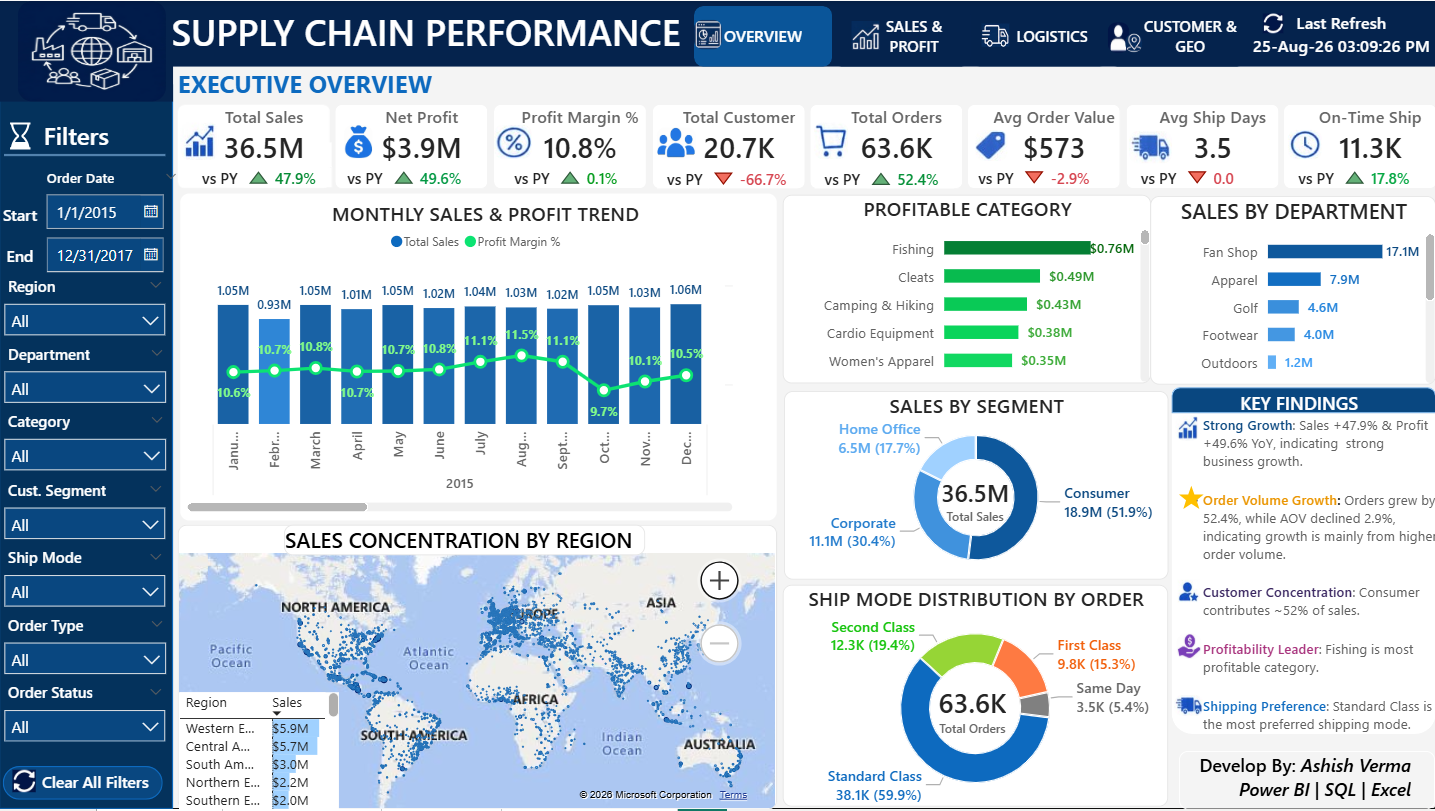

The dashboard page shown, as its layout file describes it:
{"tool":"powerbi","page":{"name":"OVERVIEW","canvas":[1280,720],"ordinal":0},"visuals":[{"type":"image","box":[16.8,0,131.8,89.9],"z":0,"group":"g30"},{"type":"pageNavigator","box":[618.8,4.7,493.5,54.1],"z":0,"group":"g32"},{"type":"image","box":[758.9,18.4,24.8,25.9],"z":0,"group":"g9"},{"type":"group","id":"g1","title":"Group 10","box":[987.4,19,30.6,27.2],"z":0,"group":"g14"},{"type":"group","id":"g2","title":"Group 9","box":[987.4,19,18.8,27.1],"z":0,"group":"g1"},{"type":"image","box":[987.4,19,18.8,27.1],"z":0,"group":"g2"},{"type":"image","box":[875,20.6,25,20.6],"z":0,"group":"g16"},{"type":"shape","box":[581.8,91.8,135.6,74.4],"z":0,"group":"g26"},{"type":"shape","box":[721.9,91.9,135.6,74.4],"z":0,"group":"g17"},{"type":"group","id":"g3","title":"Group 18","box":[158.9,92.2,139.2,74.8],"z":0,"group":"g33"},{"type":"shape","box":[158.9,92.2,135.6,74.4],"z":0,"group":"g3"},{"type":"shape","box":[299.7,92.2,135.6,74.4],"z":0,"group":"g10"},{"type":"shape","box":[440.4,92.2,135.6,74.4],"z":0,"group":"g15"},{"type":"shape","box":[862.7,92.2,135.6,74.4],"z":0,"group":"g28"},{"type":"shape","box":[1003.5,92.2,135.6,74.4],"z":0,"group":"g29"},{"type":"shape","box":[1144.2,92.2,135.6,74.4],"z":0,"group":"g31"},{"type":"textbox","box":[3.8,104.5,128.8,32.5],"z":0,"group":"g11"},{"type":"image","box":[725.2,107.5,30,33],"z":0,"group":"g18"},{"type":"image","box":[161.5,107.9,34.4,33.8],"z":0,"group":"g19"},{"type":"image","box":[307.3,110.2,25.6,30.6],"z":0,"group":"g20"},{"type":"image","box":[440,110.5,33.8,30.6],"z":0,"group":"g21"},{"type":"image","box":[584.9,111.6,35,28],"z":0,"group":"g22"},{"type":"image","box":[869,114.2,28.9,27.8],"z":0,"group":"g23"},{"type":"image","box":[1147.2,114.8,30.6,26.2],"z":0,"group":"g24"},{"type":"image","box":[1006,115.4,38.3,28.9],"z":0,"group":"g25"},{"type":"group","id":"g4","title":"Group 6","box":[0,149.5,166.3,563.8],"z":0,"group":"g27"},{"type":"group","id":"g5","title":"Group 4","box":[0,149.5,166.3,511.2],"z":0,"group":"g4"},{"type":"group","id":"g6","title":"Group 1","box":[34.7,149.5,131.2,97.5],"z":0,"group":"g12"},{"type":"slicer","fields":{"Values":["Dim_Date.Order_Date"]},"box":[34.7,149.5,131.2,97.5],"z":0,"group":"g6"},{"type":"group","id":"g7","title":"Group 2","box":[0,245.7,153.8,415],"z":0,"group":"g5"},{"type":"shape","box":[1044.4,344.4,235.6,308.9],"z":0},{"type":"donutChart","title":"SALES BY SEGMENT","fields":{"Y":["_Measures.Total Sales"],"Category":["Dim_Customer.Customer_Segment"]},"box":[698.9,346.8,342,167.8],"z":0,"group":"g34"},{"type":"image","box":[1047,368,22,23],"z":0,"group":"g36"},{"type":"image","box":[1049,430,26,25],"z":0,"group":"g37"},{"type":"slicer","fields":{"Values":["Dim_Ship.Ship_Mode"]},"box":[0,487.1,152.6,52.9],"z":0,"group":"g7"},{"type":"group","id":"g8","title":"Group 19","box":[697.8,519.9,343,197.8],"z":0,"group":"g35"},{"type":"donutChart","title":"SHIP MODE DISTRIBUTION BY ORDER","fields":{"Category":["Dim_Ship.Ship_Mode"],"Y":["_Measures.Total Orders"]},"box":[697.8,519.9,343,197.8],"z":0,"group":"g8"},{"type":"shape","box":[3.8,681.7,142.5,30],"z":0,"group":"g13"},{"type":"shape","box":[146.2,0,1133.8,58.7],"z":1000},{"type":"group","id":"g9","title":"Group 14","box":[758.9,18.4,24.1,24.8],"z":1000,"group":"g32"},{"type":"image","box":[1002.7,29,15.3,17.2],"z":1000,"group":"g1"},{"type":"group","id":"g10","title":"Group 18","box":[299.7,92.2,135.6,74.4],"z":1000,"group":"g33"},{"type":"group","id":"g11","title":"Group 7","box":[3,104.5,144.5,45],"z":1000,"group":"g27"},{"type":"shape","box":[3.8,124.5,143.8,25],"z":1000,"group":"g11"},{"type":"tableEx","fields":{"Values":["Table.Column1","_Measures.Sales YoY %"]},"box":[171,126,127.1,41],"z":1000,"group":"g3"},{"type":"tableEx","fields":{"Values":["Table.Column1","_Measures.Profit YoY %"]},"box":[302.3,126,131.8,40],"z":1000,"group":"g10"},{"type":"tableEx","fields":{"Values":["Table.Column1","_Measures.Profit Margin Change YoY %"]},"box":[443.5,126,130.6,41],"z":1000,"group":"g15"},{"type":"tableEx","fields":{"Values":["Table.Column1","_Measures.Customers YoY %"]},"box":[584.9,126,131.2,41],"z":1000,"group":"g26"},{"type":"tableEx","fields":{"Values":["Table.Column1","_Measures.Orders YoY %"]},"box":[724.9,126,131.2,40],"z":1000,"group":"g17"},{"type":"tableEx","fields":{"Values":["Table.Column1","_Measures.Avg Order value YoY %"]},"box":[864.1,126,132.9,40],"z":1000,"group":"g28"},{"type":"tableEx","fields":{"Values":["Table.Column1","_Measures.YoY Avg Ship Days"]},"box":[1007.3,126,130,41],"z":1000,"group":"g29"},{"type":"tableEx","fields":{"Values":["Table.Column1","_Measures.On Time Ship %"]},"box":[1147,126,131.8,41],"z":1000,"group":"g31"},{"type":"group","id":"g12","title":"Group 3","box":[1.3,149.5,165,106.2],"z":1000,"group":"g5"},{"type":"textbox","box":[1.3,180.3,35.1,75],"z":1000,"group":"g12"},{"type":"cardVisual","fields":{"Data":["_Measures.Total Sales"]},"box":[833.7,421.4,71.5,44],"z":1000,"group":"g34"},{"type":"slicer","fields":{"Values":["Fact_Order.Order_Type"]},"box":[0,547.5,153.8,52.9],"z":1000,"group":"g7"},{"type":"cardVisual","fields":{"Data":["_Measures.Total Orders"]},"box":[810.7,604.3,113.7,53],"z":1000,"group":"g8"},{"type":"group","id":"g13","title":"Group 5","box":[3.8,679.5,145.3,33.8],"z":1000,"group":"g4"},{"type":"textbox","box":[30,686.7,111.2,26.2],"z":1000,"group":"g13"},{"type":"shape","box":[1044.4,344.4,235.6,23.3],"z":1500,"group":"g38"},{"type":"group","id":"g14","title":"Group 11","box":[987.4,19,30.6,27.2],"z":2000,"group":"g32"},{"type":"shape","box":[0,75,155,645],"z":2000},{"type":"cardVisual","fields":{"Data":["_Measures.Total Customer"]},"box":[600.7,91.8,116.7,53],"z":2000,"group":"g26"},{"type":"cardVisual","fields":{"Data":["_Measures.Total Orders"]},"box":[740.8,91.9,116.7,53],"z":2000,"group":"g17"},{"type":"cardVisual","fields":{"Data":["_Measures.Total Sales"]},"box":[177.8,92.2,116.7,53],"z":2000,"group":"g3"},{"type":"cardVisual","fields":{"Data":["_Measures.Total Profit"]},"box":[318.6,92.2,116.7,53],"z":2000,"group":"g10"},{"type":"group","id":"g15","title":"Group 18","box":[440,92.2,135.9,74.8],"z":2000,"group":"g33"},{"type":"cardVisual","fields":{"Data":["_Measures.Profit Margin %"]},"box":[459.3,92.2,116.7,53],"z":2000,"group":"g15"},{"type":"cardVisual","fields":{"Data":["_Measures.Avg Order Value"]},"box":[881.6,92.2,116.7,53],"z":2000,"group":"g28"},{"type":"cardVisual","fields":{"Data":["_Measures.Avg Actual Ship Days"]},"box":[1022.4,92.2,116.7,53],"z":2000,"group":"g29"},{"type":"cardVisual","fields":{"Data":["_Measures.On-Time Ship Order"]},"box":[1163.1,92.2,116.7,53],"z":2000,"group":"g31"},{"type":"image","box":[3,105.5,31.2,29],"z":2000,"group":"g11"},{"type":"slicer","fields":{"Values":["Dim_Customer.Customer_Segment"]},"box":[0,426.8,152.6,52.9],"z":2000,"group":"g7"},{"type":"image","box":[11,685.4,22.5,20],"z":2000,"group":"g13"},{"type":"shape","box":[0,0,155,89.9],"z":3000},{"type":"group","id":"g16","title":"Group 12","box":[875,20.6,25,20.6],"z":3000,"group":"g32"},{"type":"group","id":"g17","title":"Group 18","box":[721.9,91.9,135.6,74.4],"z":3000,"group":"g33"},{"type":"group","id":"g18","title":"Group 14","box":[725.2,107.5,30,33.3],"z":3000,"group":"g17"},{"type":"group","id":"g19","title":"Group 14","box":[161.5,107.9,34.4,33.8],"z":3000,"group":"g3"},{"type":"group","id":"g20","title":"Group 14","box":[307.3,110.2,25.6,30.6],"z":3000,"group":"g10"},{"type":"group","id":"g21","title":"Group 14","box":[440,110.5,33.8,30.6],"z":3000,"group":"g15"},{"type":"group","id":"g22","title":"Group 14","box":[584.9,111.6,35,28],"z":3000,"group":"g26"},{"type":"group","id":"g23","title":"Group 14","box":[869,114.2,28.9,27.8],"z":3000,"group":"g28"},{"type":"group","id":"g24","title":"Group 14","box":[1147.2,114.8,30.6,26.2],"z":3000,"group":"g31"},{"type":"group","id":"g25","title":"Group 14","box":[1006,115.4,38.3,28.9],"z":3000,"group":"g29"},{"type":"slicer","fields":{"Values":["Fact_Order.Order_Status"]},"box":[0,607.8,152.6,52.9],"z":3000,"group":"g7"},{"type":"actionButton","box":[4.1,679.5,145,33.8],"z":3000,"group":"g13"},{"type":"image","box":[1125.4,11.5,18.8,17.3],"z":4000,"group":"g39"},{"type":"image","box":[618.9,17,25,26],"z":4000,"group":"g32"},{"type":"group","id":"g26","title":"Group 18","box":[581.8,91.8,135.6,75.2],"z":4000,"group":"g33"},{"type":"group","id":"g27","title":"Group 8","box":[0,104.5,166.3,608.8],"z":4000},{"type":"slicer","fields":{"Values":["Dim_Department.Department_Name"]},"box":[0,306.1,153.8,52.9],"z":4000,"group":"g7"},{"type":"textbox","box":[153.4,6,465,43.1],"z":5000},{"type":"group","id":"g28","title":"Group 18","box":[862.7,92.2,135.6,74.4],"z":5000,"group":"g33"},{"type":"slicer","fields":{"Values":["Dim_Location.Order_Region"]},"box":[0,245.7,152.6,52.9],"z":5000,"group":"g7"},{"type":"textbox","box":[159,58.7,322.4,31.2],"z":6000},{"type":"group","id":"g29","title":"Group 18","box":[1003.5,92.2,135.6,74.8],"z":6000,"group":"g33"},{"type":"slicer","fields":{"Values":["Dim_Product.Category_Name"]},"box":[0,366.4,153.8,52.9],"z":6000,"group":"g7"},{"type":"cardVisual","fields":{"Data":["Min(Last Refresh.Last Refresh)"]},"box":[1112.4,7.2,167.4,44.7],"z":6500,"group":"g39"},{"type":"group","id":"g30","title":"Group 9","box":[16.8,0,131.8,89.9],"z":7000},{"type":"group","id":"g31","title":"Group 18","box":[1144.2,92.2,135.6,74.8],"z":7000,"group":"g33"},{"type":"shape","box":[1144.4,92.2,135.6,74],"z":8000},{"type":"group","id":"g32","title":"Group 13","box":[618.8,4.7,493.5,54.1],"z":9000},{"type":"group","id":"g33","title":"Group 15","box":[158.9,91.8,1120.9,75.2],"z":10000},{"type":"lineClusteredColumnComboChart","title":"MONTHLY SALES & PROFIT TREND","fields":{"Category":["Dim_Date.Order_Date.Variation.Date Hierarchy.Year","Dim_Date.Order_Date.Variation.Date Hierarchy.Month"],"Y":["_Measures.Total Sales"],"Y2":["_Measures.Profit Margin %"]},"box":[161.1,171.1,531.1,291.1],"z":11000},{"type":"clusteredBarChart","title":"PROFITABLE CATEGORY","fields":{"Category":["Dim_Product.Category_Name"],"Y":["_Measures.Net Profit"]},"box":[697.8,172.2,327.8,167.8],"z":12000},{"type":"map","title":"Sales by Region","fields":{"Category":["Dim_Location.Order_City","Dim_Location.Order_Country"],"Size":["_Measures.Total Sales"]},"box":[158.9,466.7,533.3,253.3],"z":13000},{"type":"tableEx","fields":{"Values":["Dim_Location.Order_Region","_Measures.Total Sales"]},"box":[160,616,142,104],"z":14000},{"type":"clusteredBarChart","title":"SALES BY DEPARTMENT","fields":{"Category":["Dim_Department.Department_Name"],"Y":["_Measures.Total Sales"]},"box":[1025.6,173.3,254.4,167.8],"z":15000},{"type":"textbox","box":[253.8,466.4,321.7,27],"z":16000},{"type":"group","id":"g34","title":"Group 16","box":[698.9,346.8,342,167.8],"z":17000},{"type":"group","id":"g35","title":"Group 17","box":[697.8,519.9,343,197.8],"z":18000},{"type":"textbox","box":[1054.4,370,226.7,300],"z":19000},{"type":"group","id":"g36","title":"Group 14","box":[1047,368,22,23],"z":20000},{"type":"group","id":"g37","title":"Group 14","box":[1049,430,26,25],"z":21000},{"type":"image","box":[1049,563,22,23],"z":22000},{"type":"image","box":[1050,515,20,20],"z":23000},{"type":"image","box":[1046,618,26,19],"z":24000},{"type":"group","id":"g38","title":"Group 20","box":[1044.4,344.4,235.6,25.6],"z":25000},{"type":"textbox","box":[1050.3,668,228,51.9],"z":26000},{"type":"group","id":"g39","title":"Group 20","box":[1112.4,7.2,167.4,44.7],"z":27000},{"type":"textbox","box":[1105.5,346.6,113.3,23.3],"z":28000,"group":"g38"}]}

Visuals, with their boxes in screenshot pixels (x1, y1, x2, y2), scaled from the page's 1280x720 canvas onto the 1435x811 screenshot:
image: (left=19, top=0, right=167, bottom=101)
pageNavigator: (left=694, top=5, right=1247, bottom=66)
image: (left=851, top=21, right=879, bottom=50)
"Group 10" group: (left=1107, top=21, right=1141, bottom=52)
"Group 9" group: (left=1107, top=21, right=1128, bottom=52)
image: (left=1107, top=21, right=1128, bottom=52)
image: (left=981, top=23, right=1009, bottom=46)
shape: (left=652, top=103, right=804, bottom=187)
shape: (left=809, top=104, right=961, bottom=187)
"Group 18" group: (left=178, top=104, right=334, bottom=188)
shape: (left=178, top=104, right=330, bottom=188)
shape: (left=336, top=104, right=488, bottom=188)
shape: (left=494, top=104, right=646, bottom=188)
shape: (left=967, top=104, right=1119, bottom=188)
shape: (left=1125, top=104, right=1277, bottom=188)
shape: (left=1283, top=104, right=1434, bottom=188)
textbox: (left=4, top=118, right=149, bottom=154)
image: (left=813, top=121, right=847, bottom=158)
image: (left=181, top=122, right=220, bottom=160)
image: (left=345, top=124, right=373, bottom=159)
image: (left=493, top=124, right=531, bottom=159)
image: (left=656, top=126, right=695, bottom=157)
image: (left=974, top=129, right=1007, bottom=160)
image: (left=1286, top=129, right=1320, bottom=159)
image: (left=1128, top=130, right=1171, bottom=163)
"Group 6" group: (left=0, top=168, right=186, bottom=803)
"Group 4" group: (left=0, top=168, right=186, bottom=744)
"Group 1" group: (left=39, top=168, right=186, bottom=278)
slicer - Dim_Date.Order_Date: (left=39, top=168, right=186, bottom=278)
"Group 2" group: (left=0, top=277, right=172, bottom=744)
shape: (left=1171, top=388, right=1434, bottom=736)
"SALES BY SEGMENT" donutChart: (left=784, top=391, right=1167, bottom=580)
image: (left=1174, top=415, right=1198, bottom=440)
image: (left=1176, top=484, right=1205, bottom=513)
slicer - Dim_Ship.Ship_Mode: (left=0, top=549, right=171, bottom=608)
"Group 19" group: (left=782, top=586, right=1167, bottom=808)
"SHIP MODE DISTRIBUTION BY ORDER" donutChart: (left=782, top=586, right=1167, bottom=808)
shape: (left=4, top=768, right=164, bottom=802)
shape: (left=164, top=0, right=1434, bottom=66)
"Group 14" group: (left=851, top=21, right=878, bottom=49)
image: (left=1124, top=33, right=1141, bottom=52)
"Group 18" group: (left=336, top=104, right=488, bottom=188)
"Group 7" group: (left=3, top=118, right=165, bottom=168)
shape: (left=4, top=140, right=165, bottom=168)
tableEx - Table.Column1 x _Measures.Sales YoY %: (left=192, top=142, right=334, bottom=188)
tableEx - Table.Column1 x _Measures.Profit YoY %: (left=339, top=142, right=487, bottom=187)
tableEx - Table.Column1 x _Measures.Profit Margin Change YoY %: (left=497, top=142, right=644, bottom=188)
tableEx - Table.Column1 x _Measures.Customers YoY %: (left=656, top=142, right=803, bottom=188)
tableEx - Table.Column1 x _Measures.Orders YoY %: (left=813, top=142, right=960, bottom=187)
tableEx - Table.Column1 x _Measures.Avg Order value YoY %: (left=969, top=142, right=1118, bottom=187)
tableEx - Table.Column1 x _Measures.YoY Avg Ship Days: (left=1129, top=142, right=1275, bottom=188)
tableEx - Table.Column1 x _Measures.On Time Ship %: (left=1286, top=142, right=1434, bottom=188)
"Group 3" group: (left=1, top=168, right=186, bottom=288)
textbox: (left=1, top=203, right=41, bottom=288)
cardVisual - _Measures.Total Sales: (left=935, top=475, right=1015, bottom=524)
slicer - Fact_Order.Order_Type: (left=0, top=617, right=172, bottom=676)
cardVisual - _Measures.Total Orders: (left=909, top=681, right=1036, bottom=740)
"Group 5" group: (left=4, top=765, right=167, bottom=803)
textbox: (left=34, top=773, right=158, bottom=803)
shape: (left=1171, top=388, right=1434, bottom=414)
"Group 11" group: (left=1107, top=21, right=1141, bottom=52)
shape: (left=0, top=84, right=174, bottom=810)
cardVisual - _Measures.Total Customer: (left=673, top=103, right=804, bottom=163)
cardVisual - _Measures.Total Orders: (left=831, top=104, right=961, bottom=163)
cardVisual - _Measures.Total Sales: (left=199, top=104, right=330, bottom=164)
cardVisual - _Measures.Total Profit: (left=357, top=104, right=488, bottom=164)
"Group 18" group: (left=493, top=104, right=646, bottom=188)
cardVisual - _Measures.Profit Margin %: (left=515, top=104, right=646, bottom=164)
cardVisual - _Measures.Avg Order Value: (left=988, top=104, right=1119, bottom=164)
cardVisual - _Measures.Avg Actual Ship Days: (left=1146, top=104, right=1277, bottom=164)
cardVisual - _Measures.On-Time Ship Order: (left=1304, top=104, right=1434, bottom=164)
image: (left=3, top=119, right=38, bottom=151)
slicer - Dim_Customer.Customer_Segment: (left=0, top=481, right=171, bottom=540)
image: (left=12, top=772, right=38, bottom=795)
shape: (left=0, top=0, right=174, bottom=101)
"Group 12" group: (left=981, top=23, right=1009, bottom=46)
"Group 18" group: (left=809, top=104, right=961, bottom=187)
"Group 14" group: (left=813, top=121, right=847, bottom=159)
"Group 14" group: (left=181, top=122, right=220, bottom=160)
"Group 14" group: (left=345, top=124, right=373, bottom=159)
"Group 14" group: (left=493, top=124, right=531, bottom=159)
"Group 14" group: (left=656, top=126, right=695, bottom=157)
"Group 14" group: (left=974, top=129, right=1007, bottom=160)
"Group 14" group: (left=1286, top=129, right=1320, bottom=159)
"Group 14" group: (left=1128, top=130, right=1171, bottom=163)
slicer - Fact_Order.Order_Status: (left=0, top=685, right=171, bottom=744)
actionButton: (left=5, top=765, right=167, bottom=803)
image: (left=1262, top=13, right=1283, bottom=32)
image: (left=694, top=19, right=722, bottom=48)
"Group 18" group: (left=652, top=103, right=804, bottom=188)
"Group 8" group: (left=0, top=118, right=186, bottom=803)
slicer - Dim_Department.Department_Name: (left=0, top=345, right=172, bottom=404)
textbox: (left=172, top=7, right=693, bottom=55)
"Group 18" group: (left=967, top=104, right=1119, bottom=188)
slicer - Dim_Location.Order_Region: (left=0, top=277, right=171, bottom=336)
textbox: (left=178, top=66, right=540, bottom=101)
"Group 18" group: (left=1125, top=104, right=1277, bottom=188)
slicer - Dim_Product.Category_Name: (left=0, top=413, right=172, bottom=472)
cardVisual - Min(Last Refresh.Last Refresh): (left=1247, top=8, right=1434, bottom=58)
"Group 9" group: (left=19, top=0, right=167, bottom=101)
"Group 18" group: (left=1283, top=104, right=1434, bottom=188)
shape: (left=1283, top=104, right=1434, bottom=187)
"Group 13" group: (left=694, top=5, right=1247, bottom=66)
"Group 15" group: (left=178, top=103, right=1434, bottom=188)
"MONTHLY SALES & PROFIT TREND" lineClusteredColumnComboChart: (left=181, top=193, right=776, bottom=521)
"PROFITABLE CATEGORY" clusteredBarChart: (left=782, top=194, right=1150, bottom=383)
"Sales by Region" map: (left=178, top=526, right=776, bottom=810)
tableEx - Dim_Location.Order_Region x _Measures.Total Sales: (left=179, top=694, right=339, bottom=810)
"SALES BY DEPARTMENT" clusteredBarChart: (left=1150, top=195, right=1434, bottom=384)
textbox: (left=285, top=525, right=645, bottom=556)
"Group 16" group: (left=784, top=391, right=1167, bottom=580)
"Group 17" group: (left=782, top=586, right=1167, bottom=808)
textbox: (left=1182, top=417, right=1434, bottom=755)
"Group 14" group: (left=1174, top=415, right=1198, bottom=440)
"Group 14" group: (left=1176, top=484, right=1205, bottom=513)
image: (left=1176, top=634, right=1201, bottom=660)
image: (left=1177, top=580, right=1200, bottom=603)
image: (left=1173, top=696, right=1202, bottom=718)
"Group 20" group: (left=1171, top=388, right=1434, bottom=417)
textbox: (left=1177, top=752, right=1433, bottom=810)
"Group 20" group: (left=1247, top=8, right=1434, bottom=58)
textbox: (left=1239, top=390, right=1366, bottom=417)
